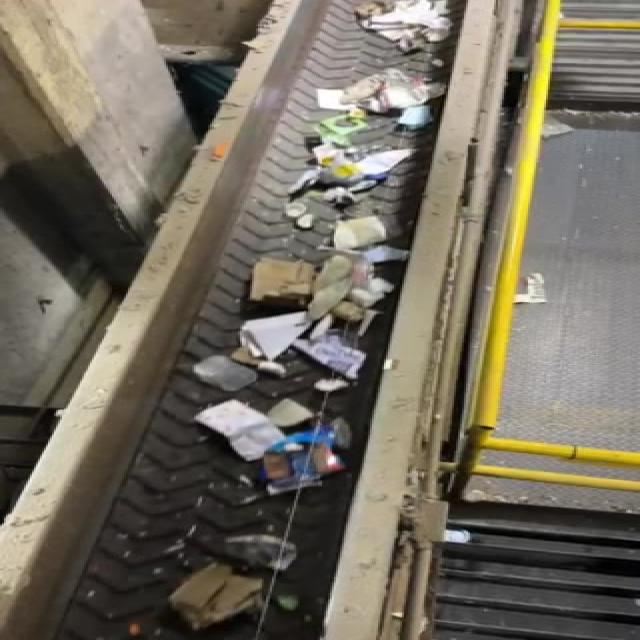paper: (151, 563, 278, 626), (200, 405, 289, 468)
pet: (264, 425, 374, 496)
